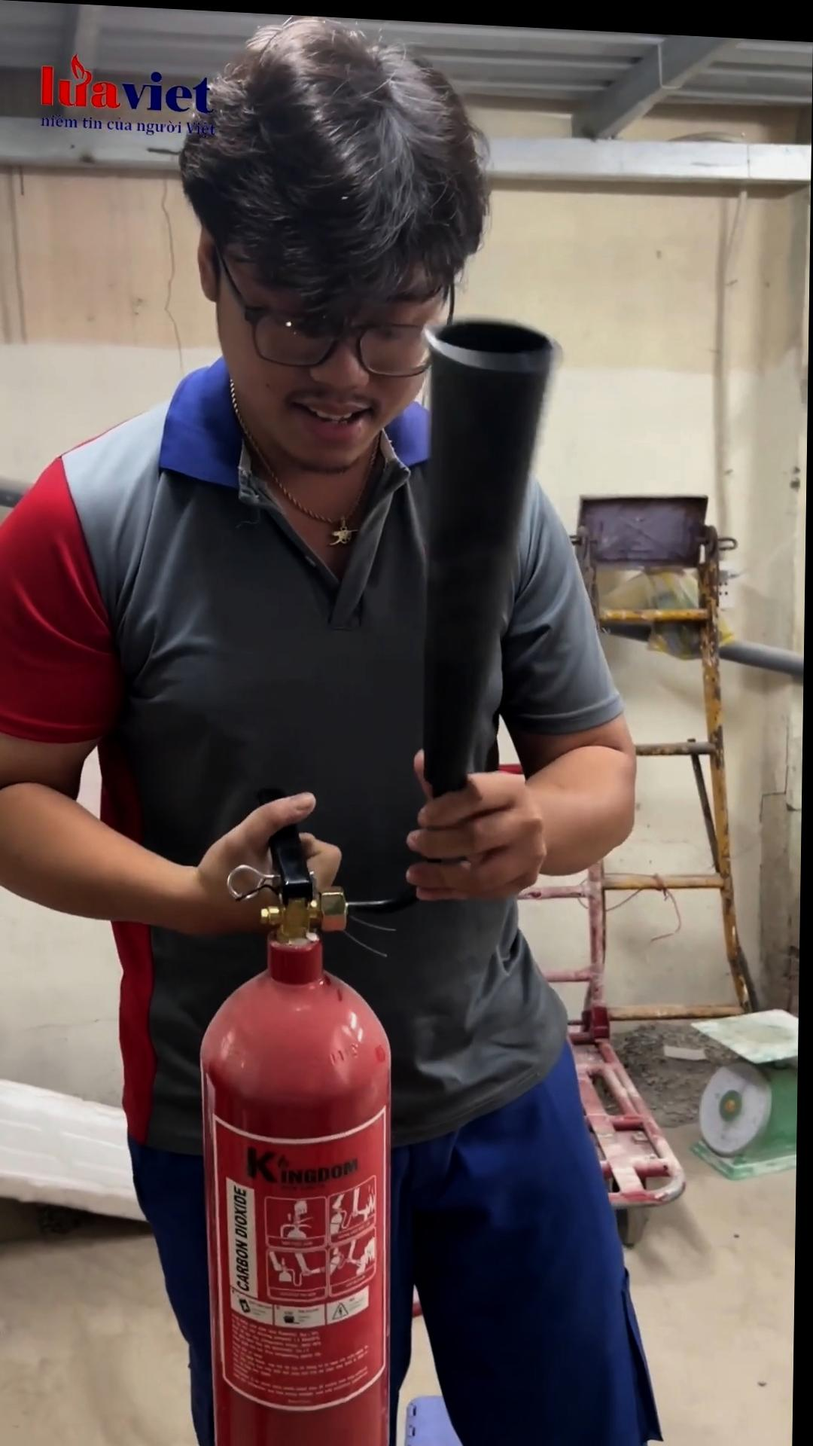FireExtinguisher: (183, 871, 431, 1446)
not: (0, 423, 183, 1140), (551, 946, 692, 1222), (18, 20, 127, 141)
